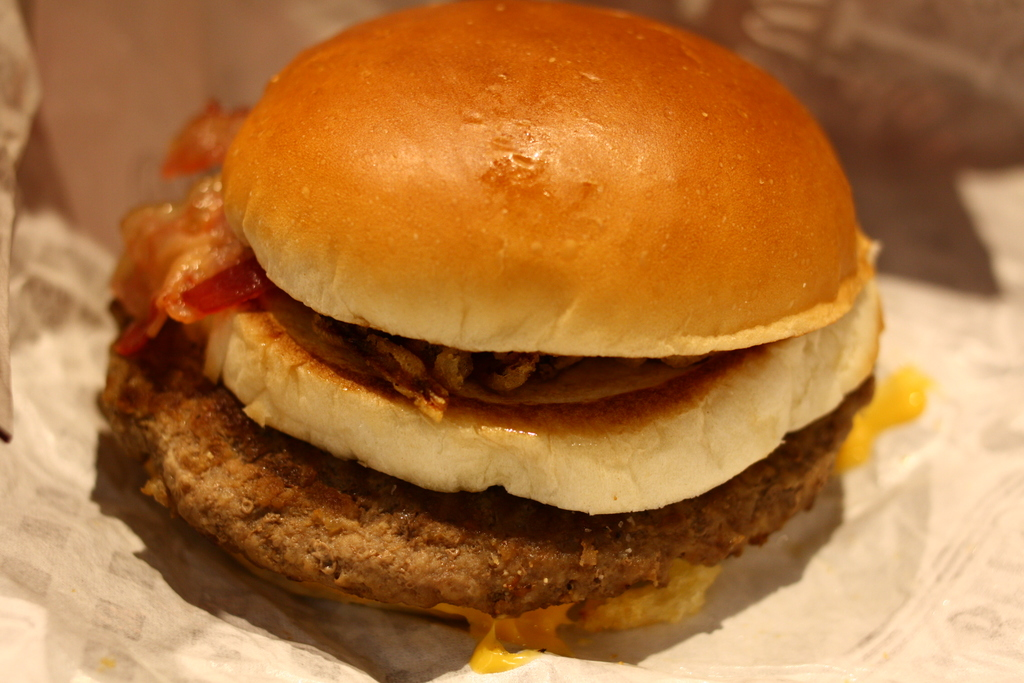Hamburger: (96, 0, 926, 669)
